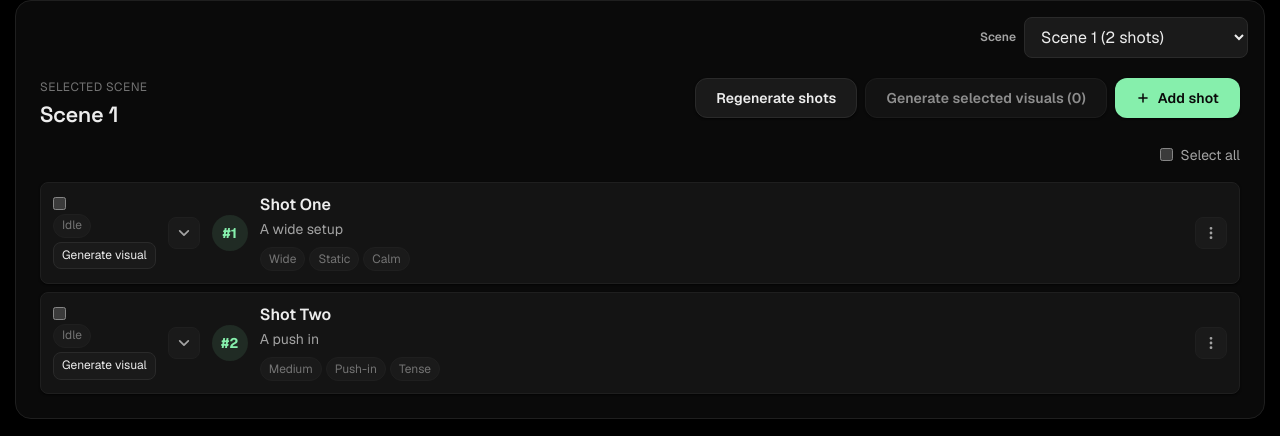
ShotsWorkspace › generates shots for empty scenes and regenerates existing shots after confirmation
Select "Scene 3 (0 shots)" in the dropdown named "Select scene": (1136, 38) [1024,17,1248,58]
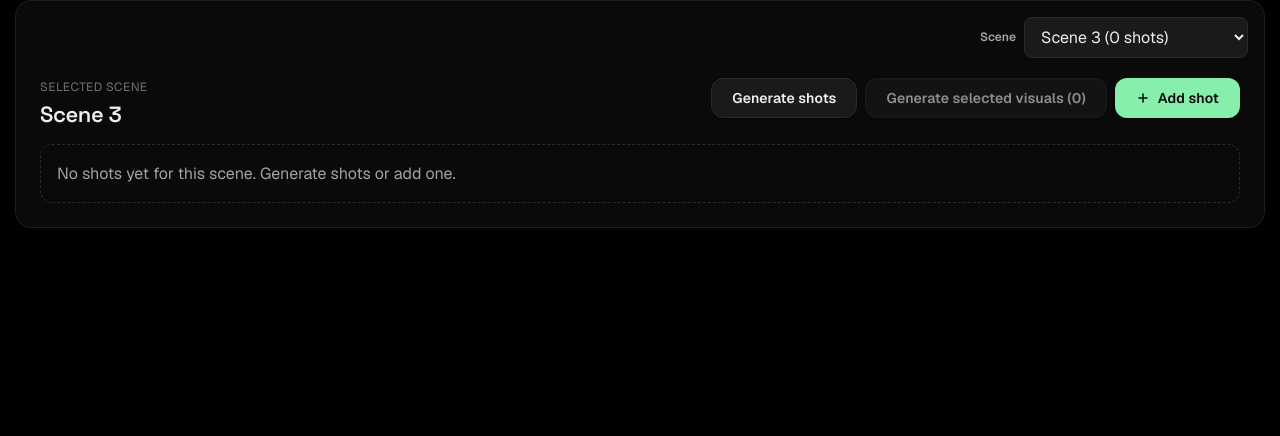
Click the button "Generate shots": (784, 98) [711,78,858,118]
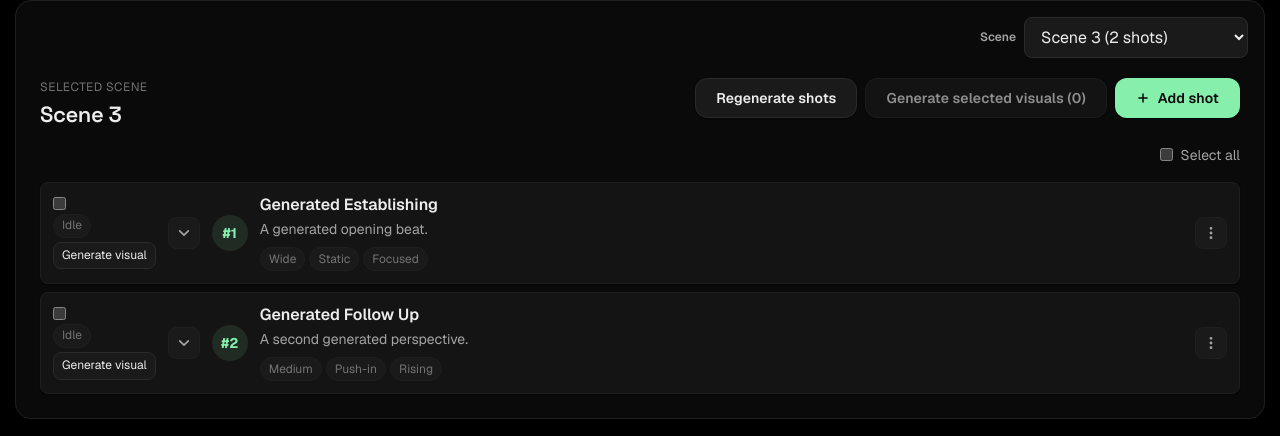
Check: the text "Generated Establishing" is shown, box [260,194,438,215]
Select "Scene 1 (2 shots)" in the dropdown named "Select scene": (1136, 38) [1024,17,1248,58]
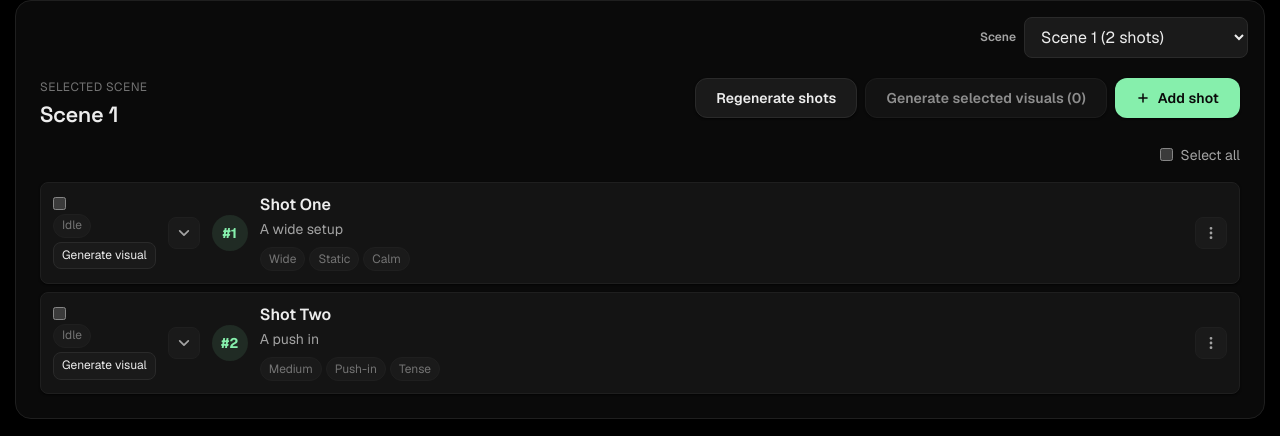
Click the button "Regenerate shots": (776, 98) [695,78,858,118]
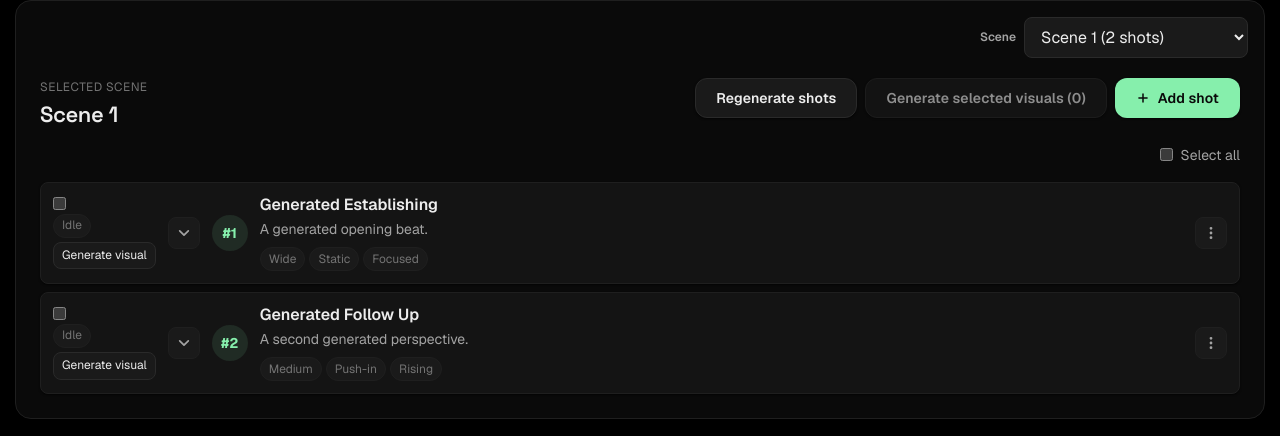
Check: the button "Shot One" is gone
Check: the text "Generated Follow Up" is shown, box [260,304,419,325]
